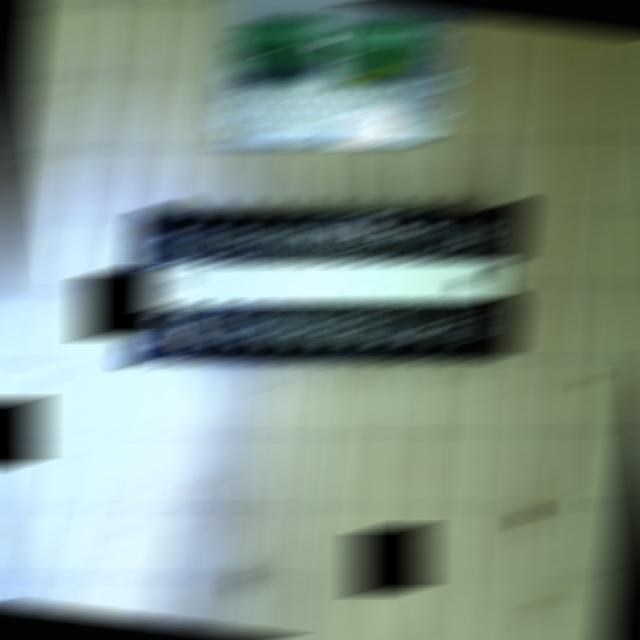Flathead_Block: (118, 205, 530, 360)
Terminal_1: (333, 20, 428, 68), (235, 20, 326, 64)
